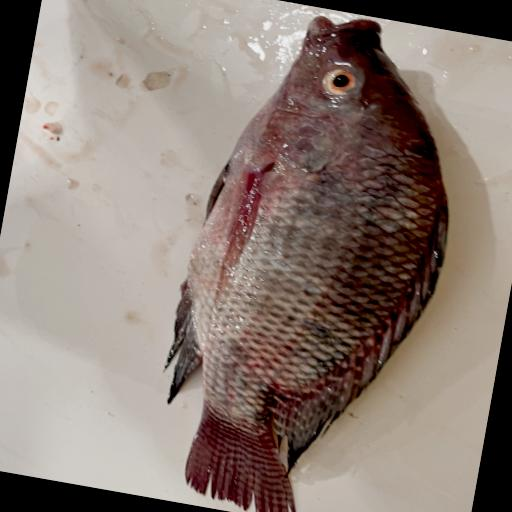Tilapia: (140, 0, 483, 512)
